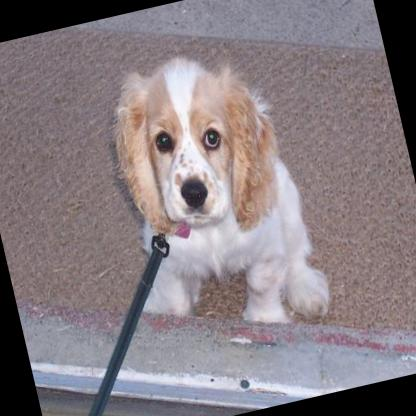cocker_spaniel: (95, 34, 332, 352)
